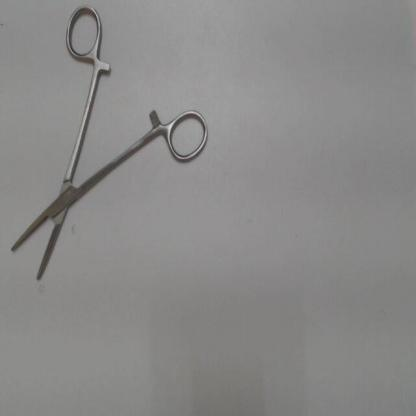Mayo Needle Holder: (5, 1, 215, 295)
